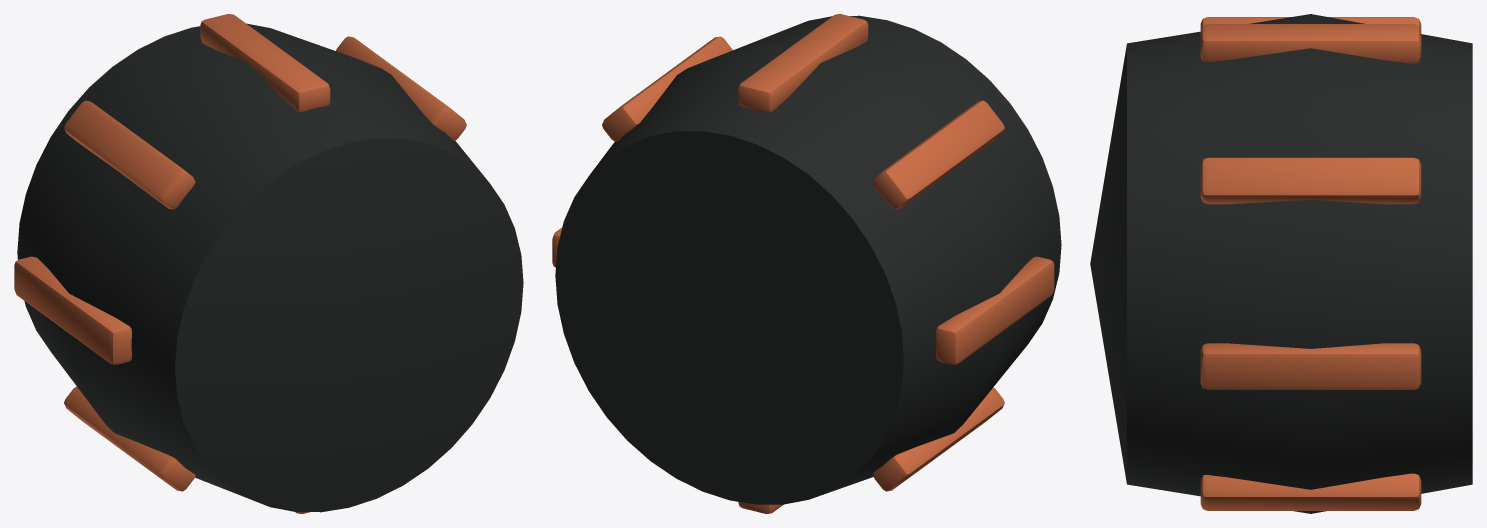
File: electric_planer_depth_knob.glb
3 renders of one model, left to right at view 1: azimuth 30°, elevation 25°; view 2: azimuth 150°, elevation 25°; view 3: azimuth 270°, elevation 25°, orthographic. The views are drawn at different scales.
Parts seen in each view (by area): view 1: electric_planer_depth_knob; view 2: electric_planer_depth_knob; view 3: electric_planer_depth_knob.
Part boxes in pixels (x1,y1,x2,y2): electric_planer_depth_knob: (14, 14, 523, 513); electric_planer_depth_knob: (552, 14, 1061, 513); electric_planer_depth_knob: (1090, 14, 1472, 513).
Size of the model in its own units: 0.07 by 0.07 by 0.052.
